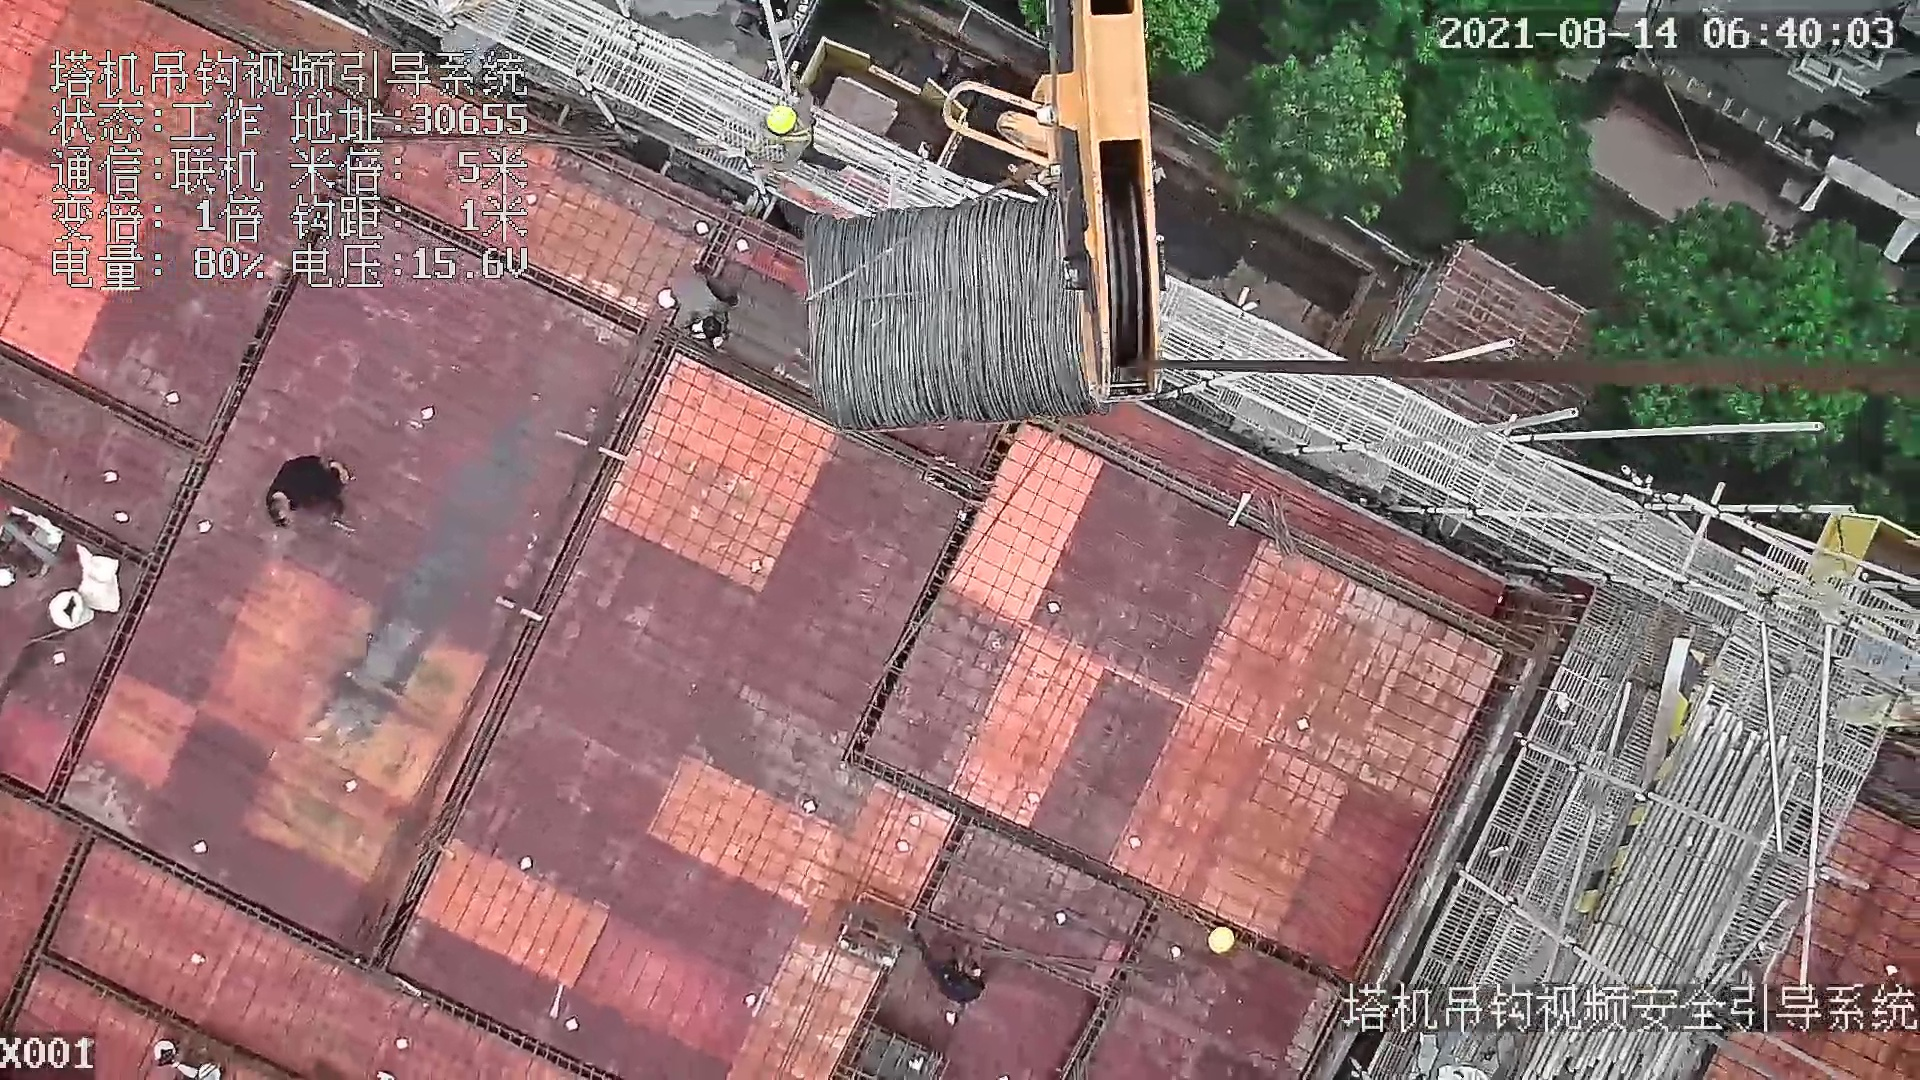helmet: (1206, 926, 1243, 956), (766, 106, 799, 137)
hook: (944, 1, 1168, 410)
person: (749, 69, 852, 190), (660, 267, 741, 354), (273, 451, 353, 532)
